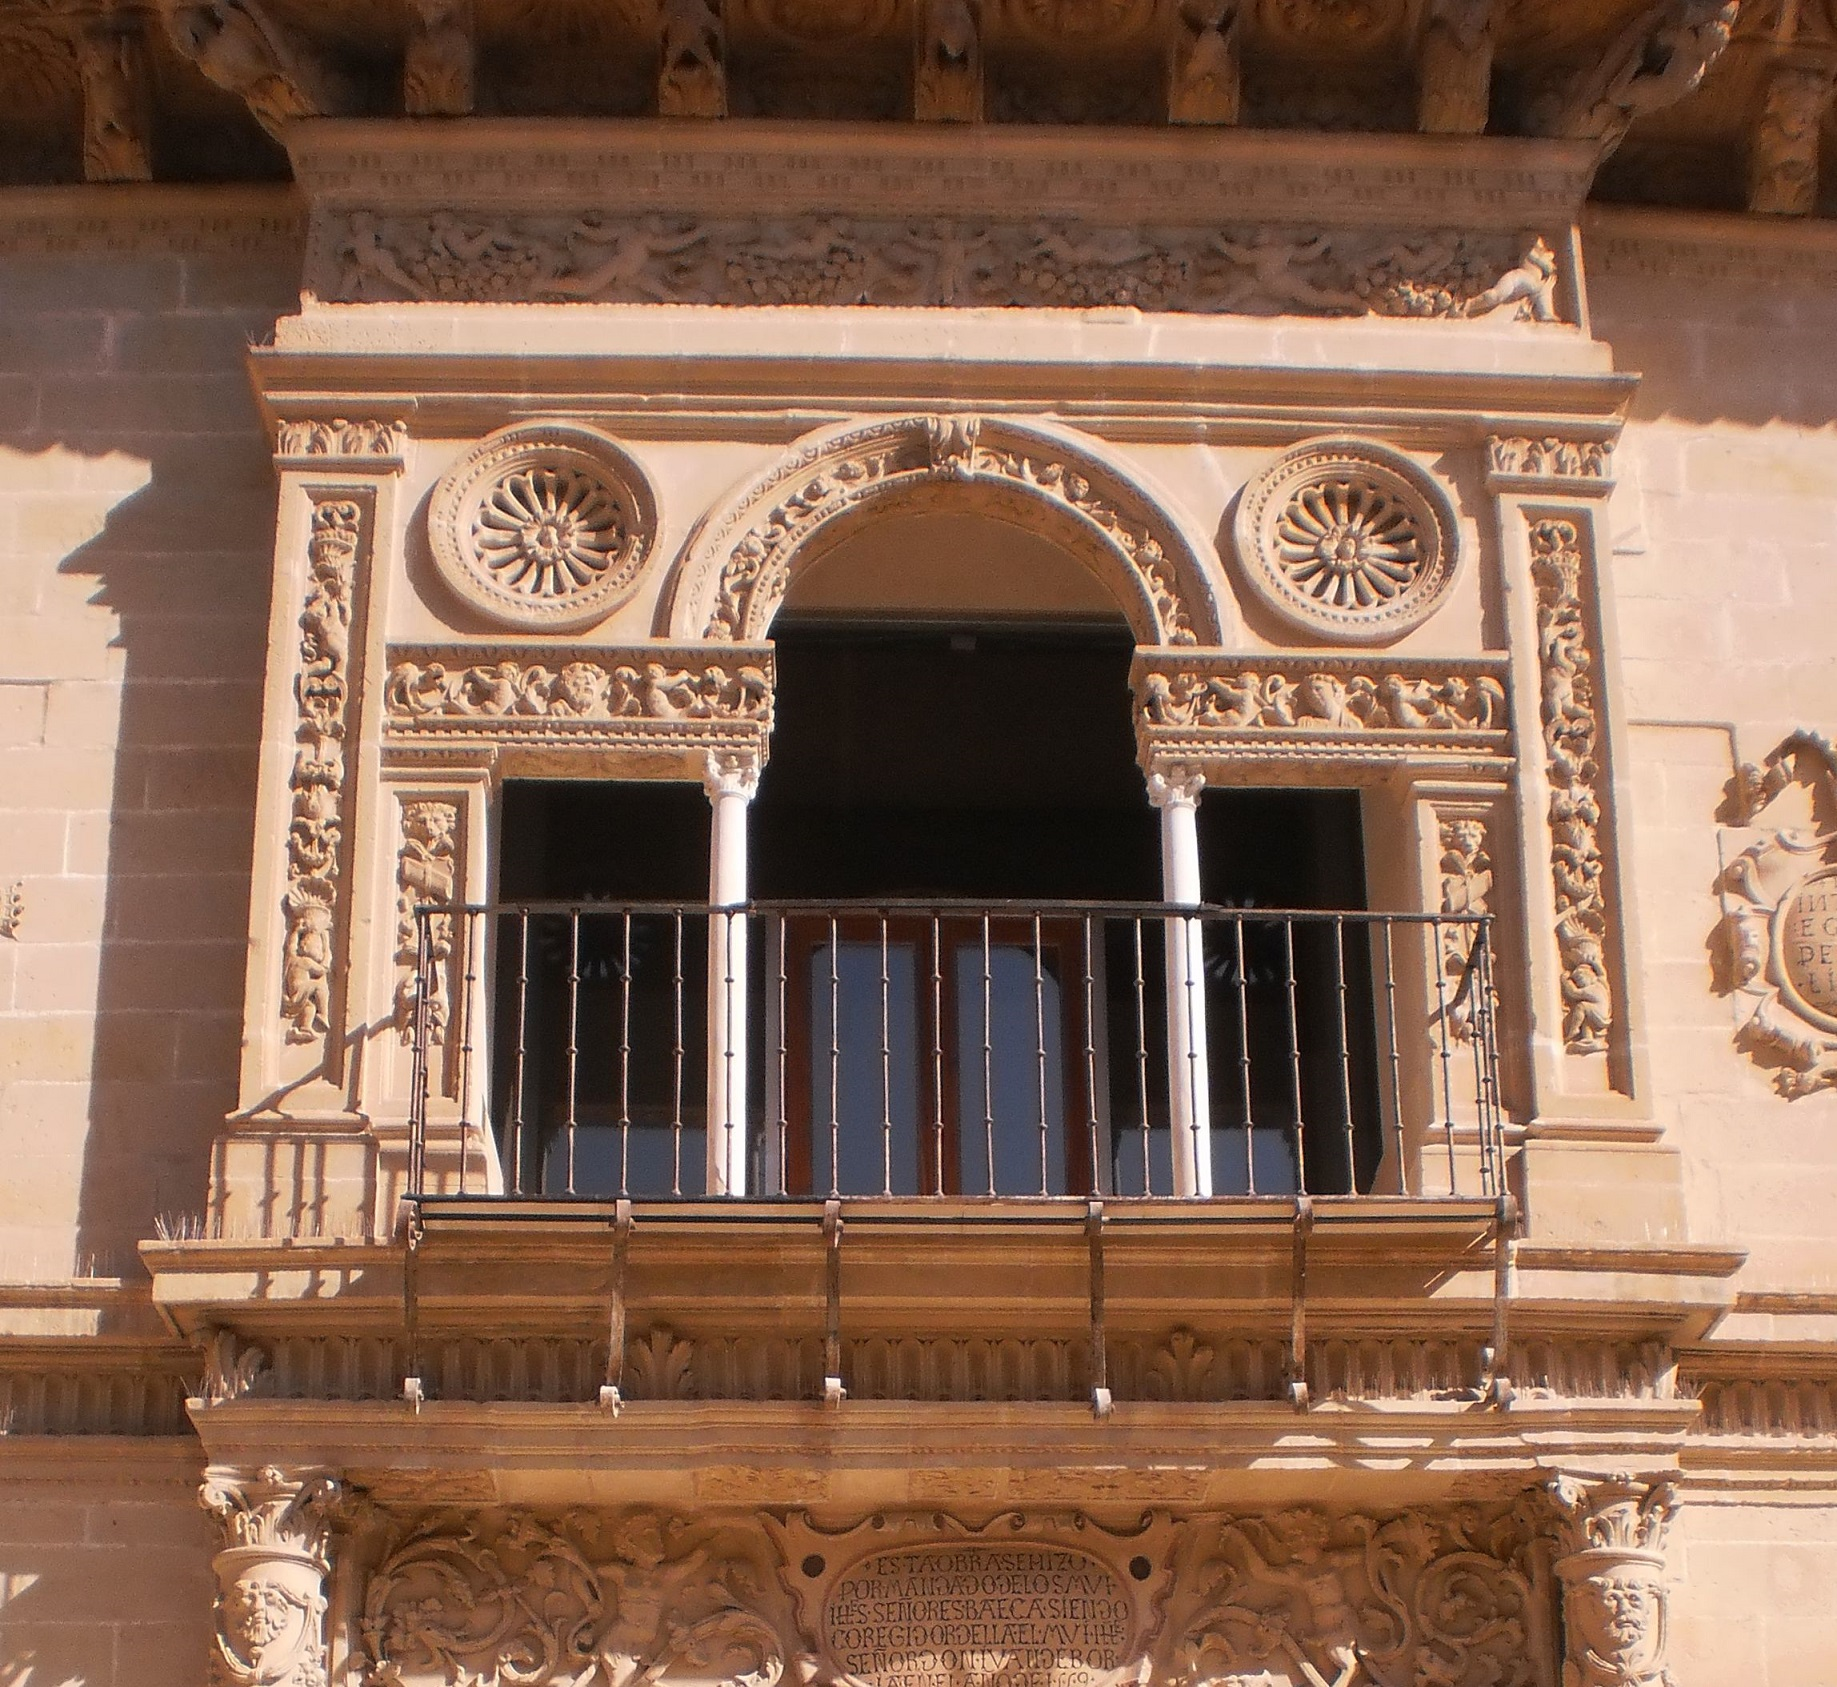serliana: (347, 378, 1506, 1240)
